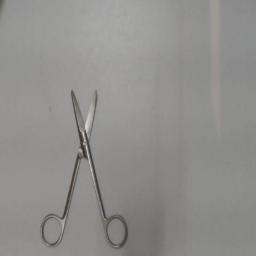Curved Mayo Scissors: (38, 86, 130, 252)
